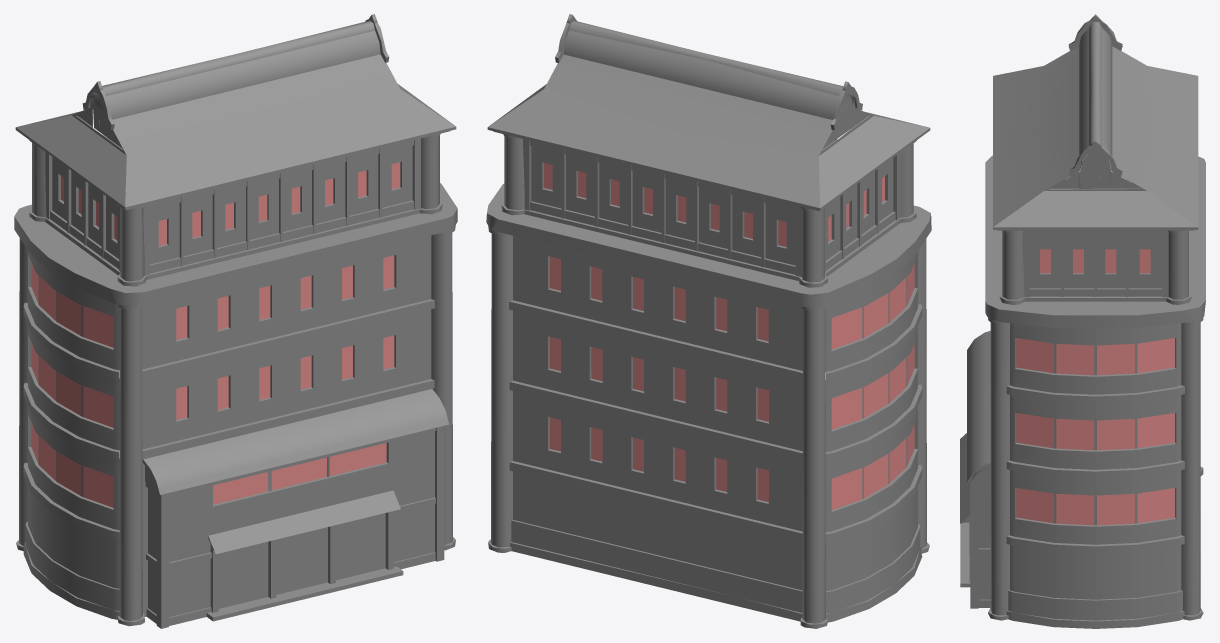
File: SM_ENV_LKNVLD03_CommonBuilding_F.gltf
3 views of the same model, side by side, from view 1: azimuth 30°, elevation 25°; view 2: azimuth 150°, elevation 25°; view 3: azimuth 270°, elevation 25° (orthographic). The views are drawn at different scales.
Visible parts, largest first — view 1: SM_ENV_LKNVLD03_CommonBuilding_F; view 2: SM_ENV_LKNVLD03_CommonBuilding_F; view 3: SM_ENV_LKNVLD03_CommonBuilding_F.
Part boxes in pixels (<box>): SM_ENV_LKNVLD03_CommonBuilding_F: <box>14,14,457,628</box>; SM_ENV_LKNVLD03_CommonBuilding_F: <box>486,14,931,628</box>; SM_ENV_LKNVLD03_CommonBuilding_F: <box>960,14,1205,628</box>.
Bounding box in the file's own units: 29.29 × 37.33 × 17.84.
